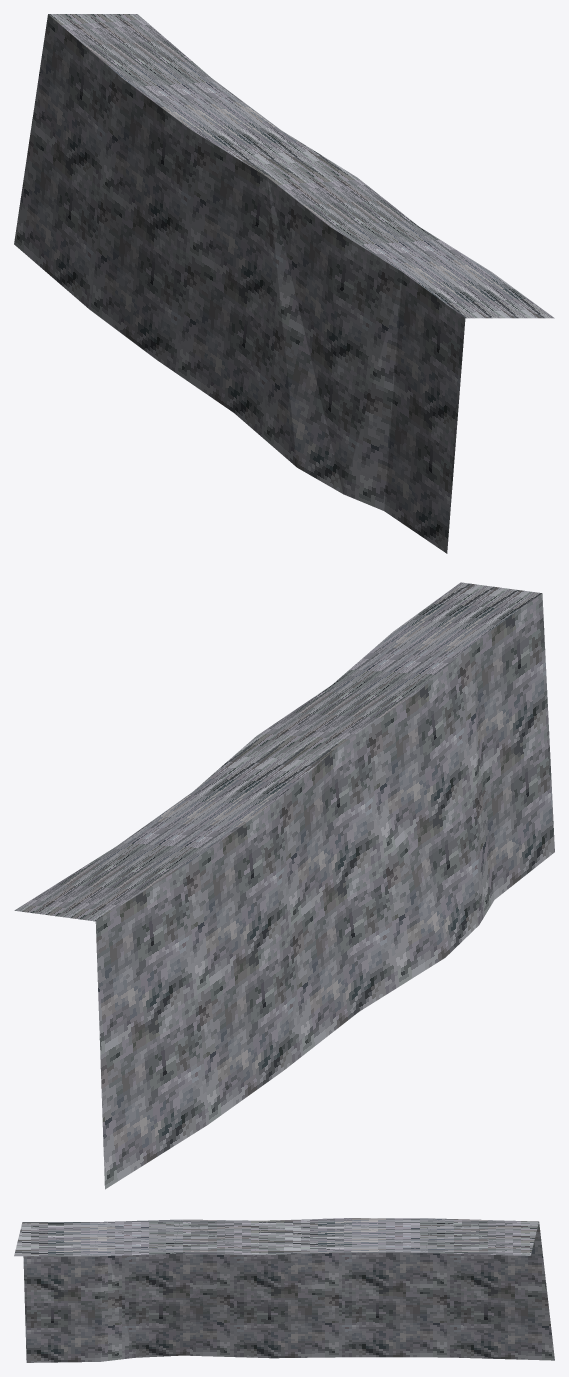
The model's file is lodseabed106.obj.
3 renders of one model, top to bottom at view 1: azimuth 30°, elevation 25°; view 2: azimuth 150°, elevation 25°; view 3: azimuth 270°, elevation 25°, orthographic. The views are drawn at different scales.
Visible parts, largest first — view 1: lodseabed106; view 2: lodseabed106; view 3: lodseabed106.
Boxes of the visible parts, <box> form: lodseabed106: <box>14,14,554,553</box>; lodseabed106: <box>14,582,554,1189</box>; lodseabed106: <box>14,1218,554,1362</box>.
Bounding box in the file's own units: 38.09 × 70 × 236.
Materials: 1 (1 with a texture image).
